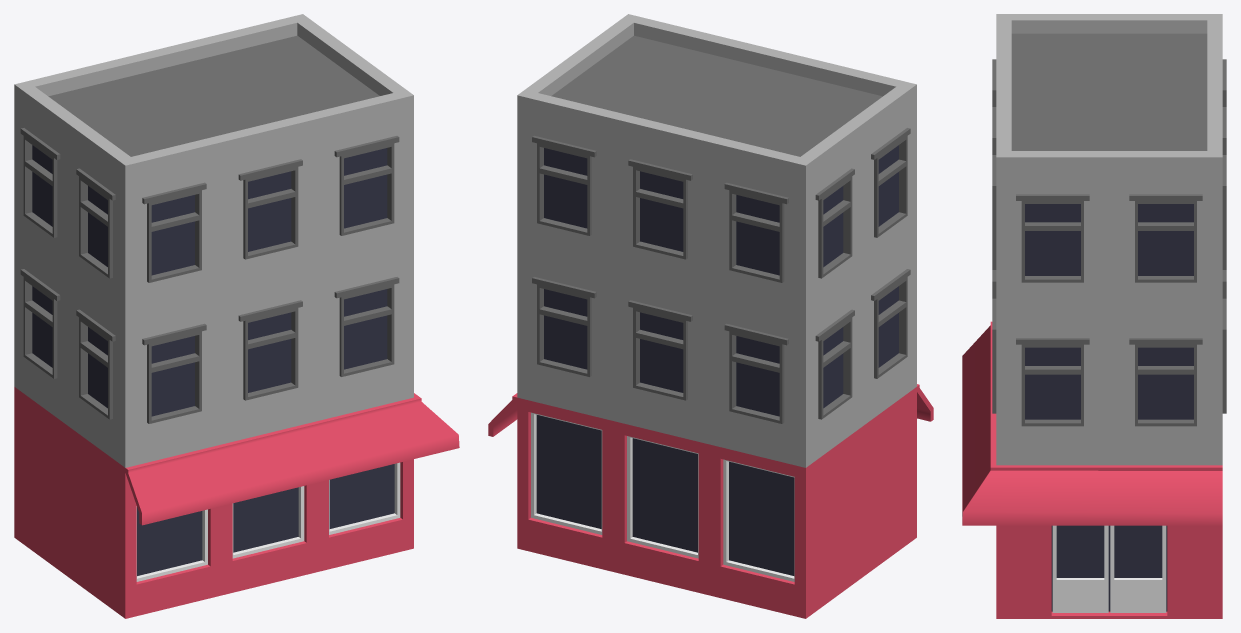
The picture shows the model from 3 angles, left to right: view 1: azimuth 30°, elevation 25°; view 2: azimuth 150°, elevation 25°; view 3: azimuth 270°, elevation 25°; orthographic projection.
Parts seen in each view (by area): view 1: Main building, Ground floor, Window glass, Window frames, Roof, Marquee, Window frame; view 2: Main building, Window glass, Ground floor, Window frames, Roof, Window frame, Marquee; view 3: Main building, Roof, Window glass, Marquee, Window frames, Ground floor, Door.
Boxes of the visible parts, x1,y1,x2,y2 form: Main building: (14,14,413,467); Ground floor: (14,387,413,618); Window glass: (32,145,394,575); Window frames: (20,128,399,423); Roof: (48,35,379,156); Marquee: (125,393,459,525); Window frame: (136,462,400,581); Main building: (517,14,916,467); Window glass: (536,145,898,575); Ground floor: (517,387,916,618); Window frames: (532,128,910,423); Roof: (551,35,882,156); Window frame: (531,412,794,581); Marquee: (488,384,933,436); Main building: (996,14,1222,465); Roof: (1011,33,1207,150); Window glass: (1025,204,1193,611); Marquee: (962,321,1222,525); Window frames: (992,59,1226,426); Ground floor: (996,525,1222,618); Door: (1052,525,1166,612).
Bounding box in the file's own units: 0.0667 × 0.0901 × 0.0467.
